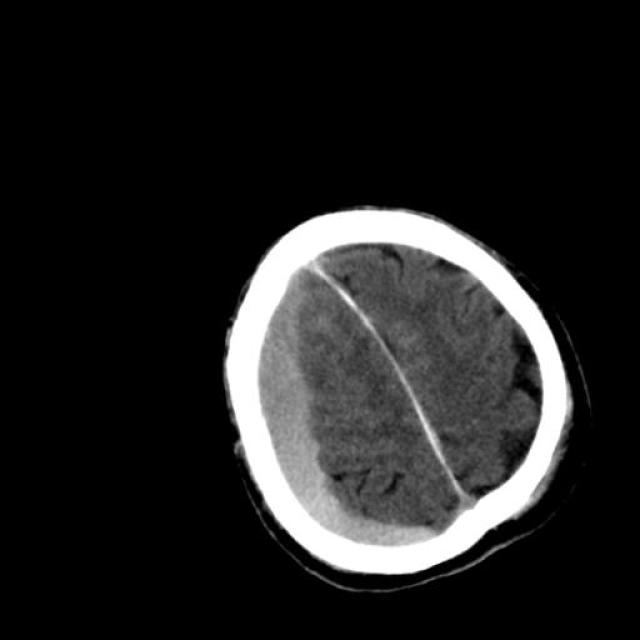Subdural: (181, 248, 453, 618)
